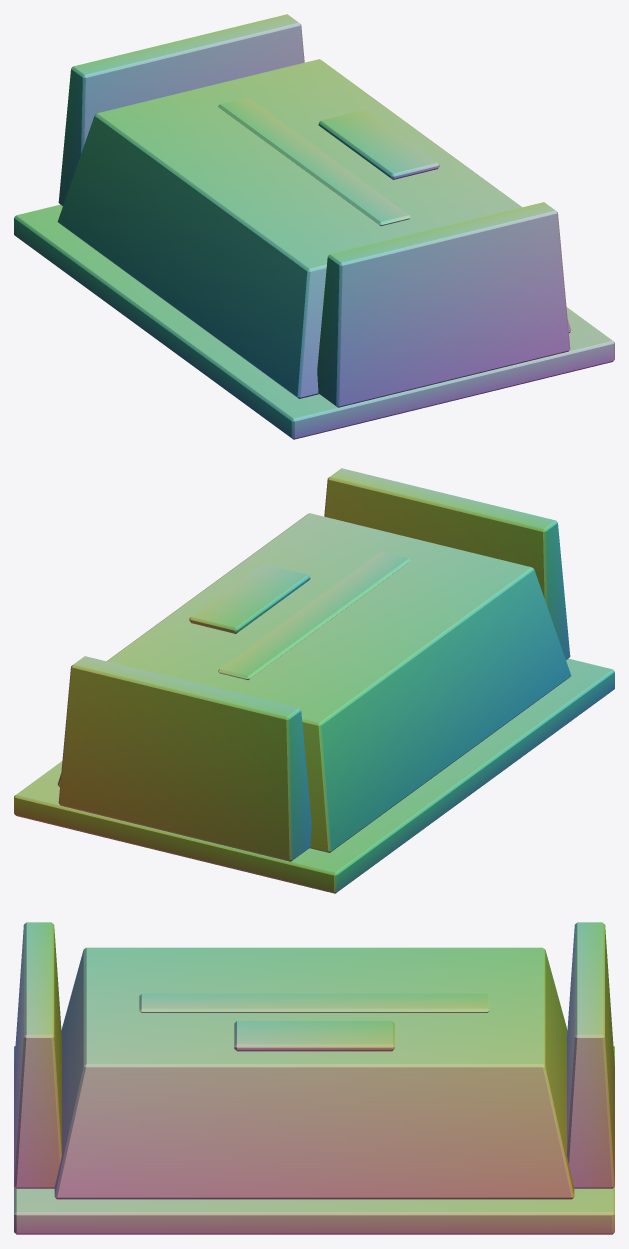
Rendered from module_blank_rig.glb.
3 renders of one model, top to bottom at view 1: azimuth 30°, elevation 25°; view 2: azimuth 150°, elevation 25°; view 3: azimuth 270°, elevation 25°, orthographic. The views are drawn at different scales.
Parts seen in each view (by area): view 1: body; view 2: body; view 3: body.
Boxes of the visible parts, box(x1,y1,x2,y2) form: body: box(14, 14, 614, 439); body: box(14, 468, 614, 893); body: box(14, 922, 614, 1234).
Bounding box in the file's own units: 8 × 3.8 × 12.
